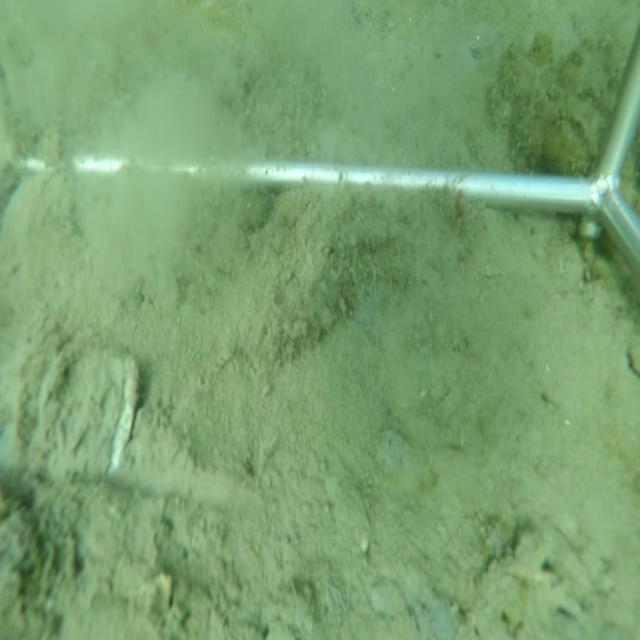Oyster-Indeterminate: (29, 323, 142, 477)
